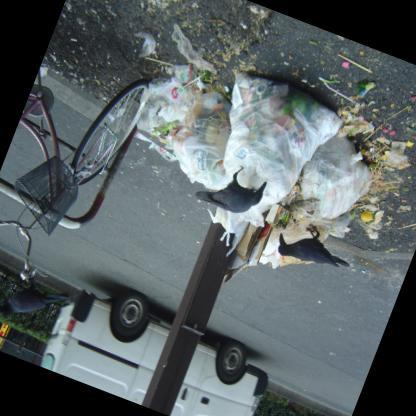Garbage: (199, 66, 344, 190), (289, 134, 387, 239), (159, 83, 250, 192), (327, 66, 415, 170), (119, 9, 224, 88), (136, 70, 199, 150), (348, 202, 398, 254)
